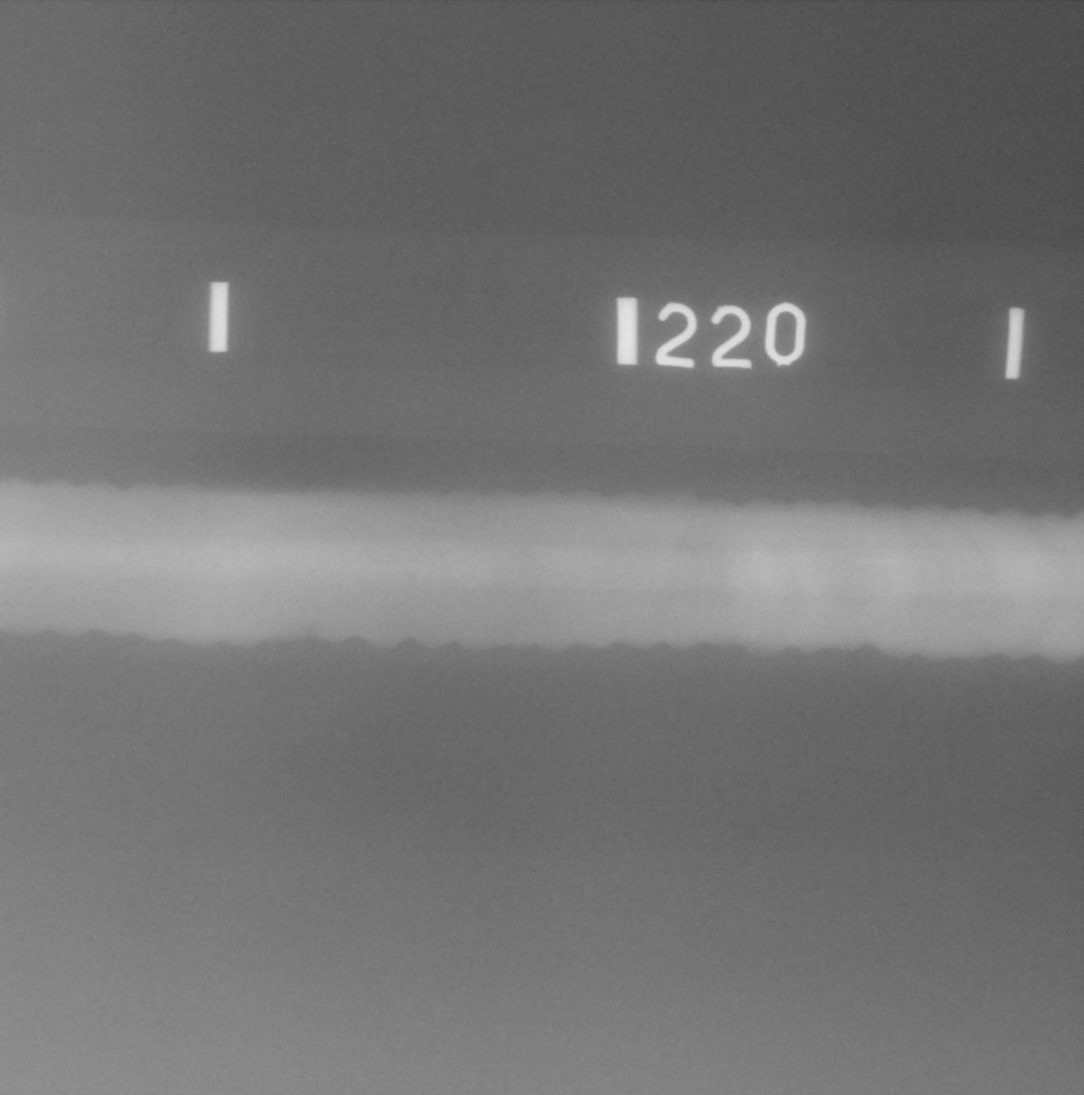Pore/Porosity: (411, 572, 415, 576), (407, 577, 410, 580)
